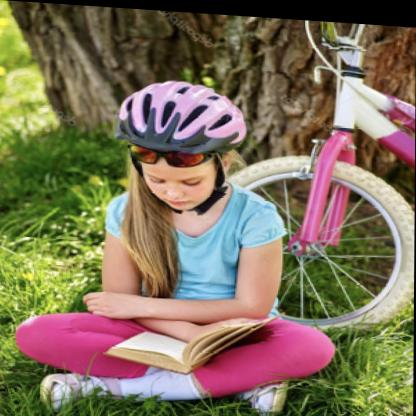With Helmet: (117, 73, 252, 216)
